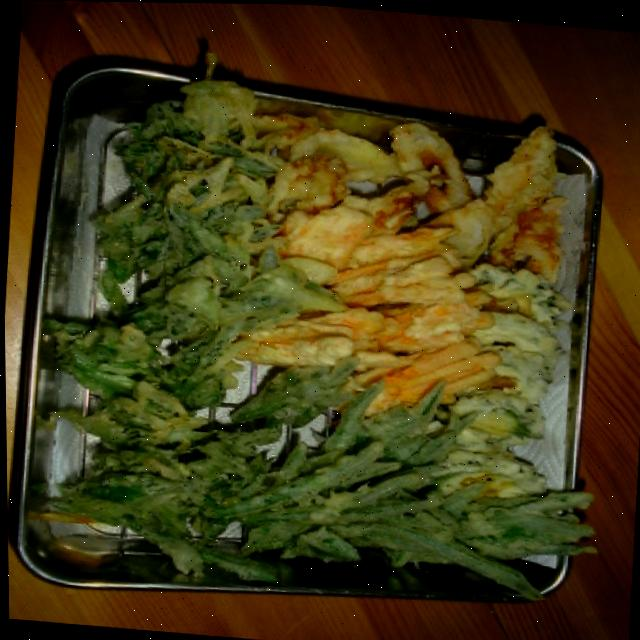蔬菜料理: (57, 29, 640, 636)
